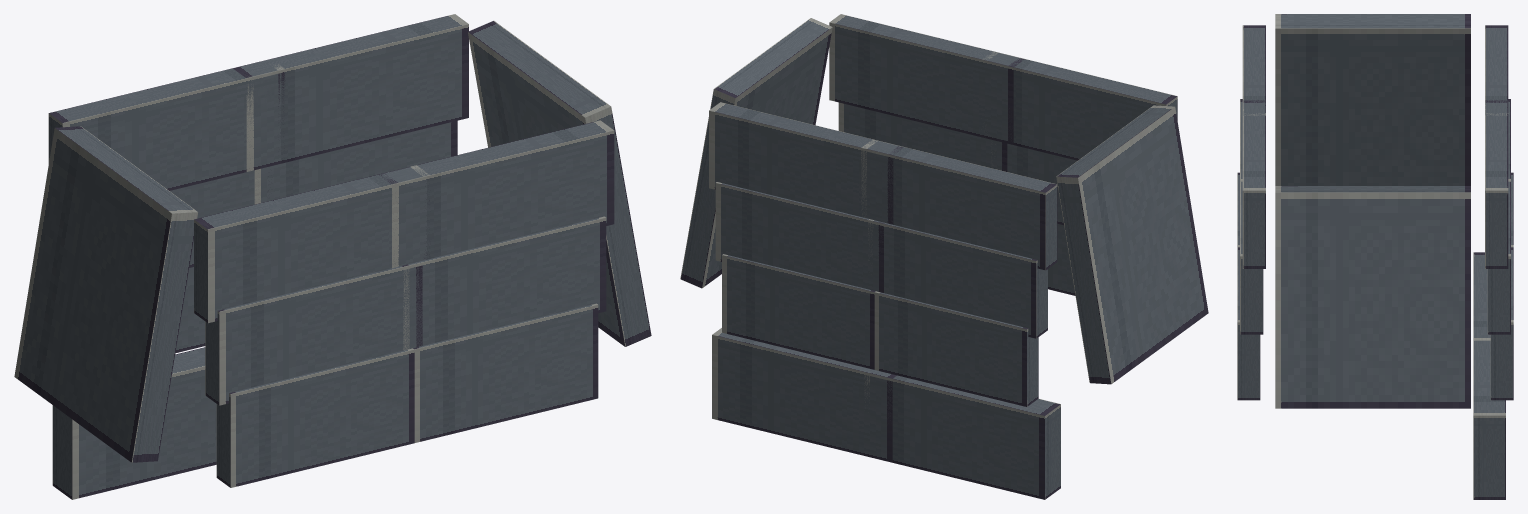
The model's file is workpiece_xuantie_leggings_tempered.obj.
3 renders of one model, left to right at view 1: azimuth 30°, elevation 25°; view 2: azimuth 150°, elevation 25°; view 3: azimuth 270°, elevation 25°, orthographic. The views are drawn at different scales.
Parts seen in each view (by area): view 1: geometry; view 2: geometry; view 3: geometry.
Boxes of the visible parts, box(x1,y1,x2,y2) form: geometry: box(14, 14, 651, 499); geometry: box(680, 14, 1208, 499); geometry: box(1237, 14, 1513, 499).
Bounding box in the file's own units: 0.6717 × 0.4664 × 0.3713.
